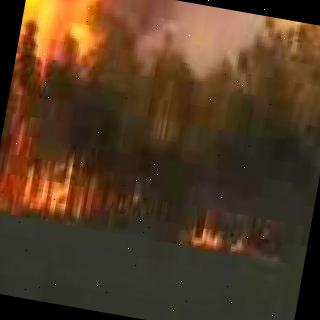fire: (0, 76, 140, 231), (15, 0, 134, 78), (184, 210, 254, 257)
